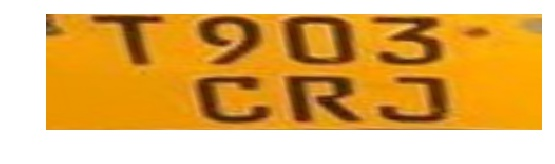T: (86, 15, 172, 71)
